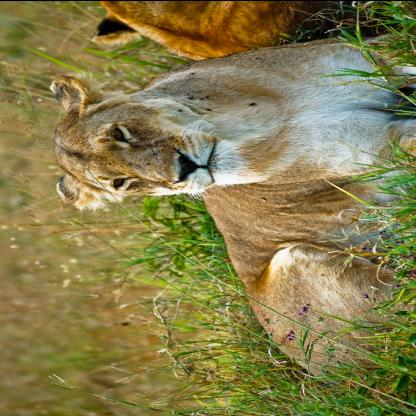lion: (36, 70, 260, 214)
